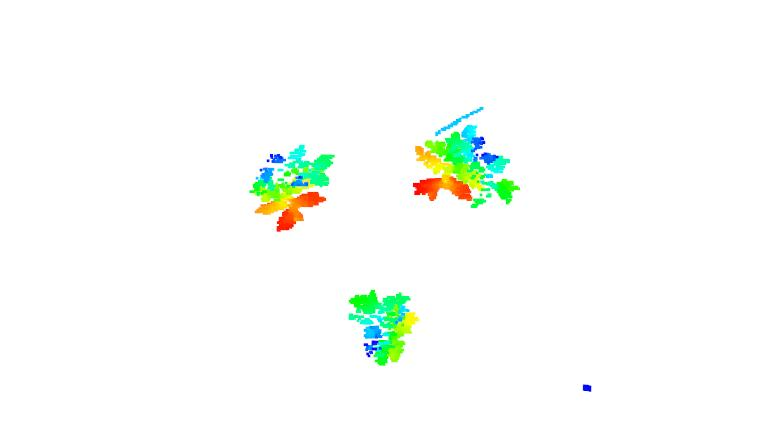chickpea: (411, 125, 517, 211), (248, 143, 339, 237), (346, 288, 420, 371)
